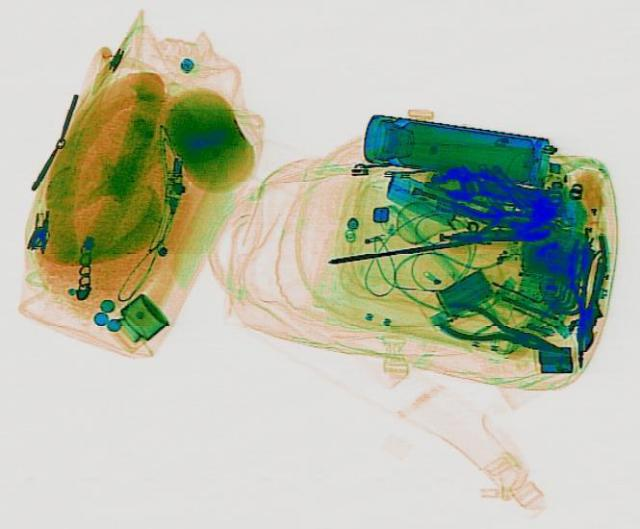Pliers: (432, 295, 570, 363), (563, 234, 607, 351)
